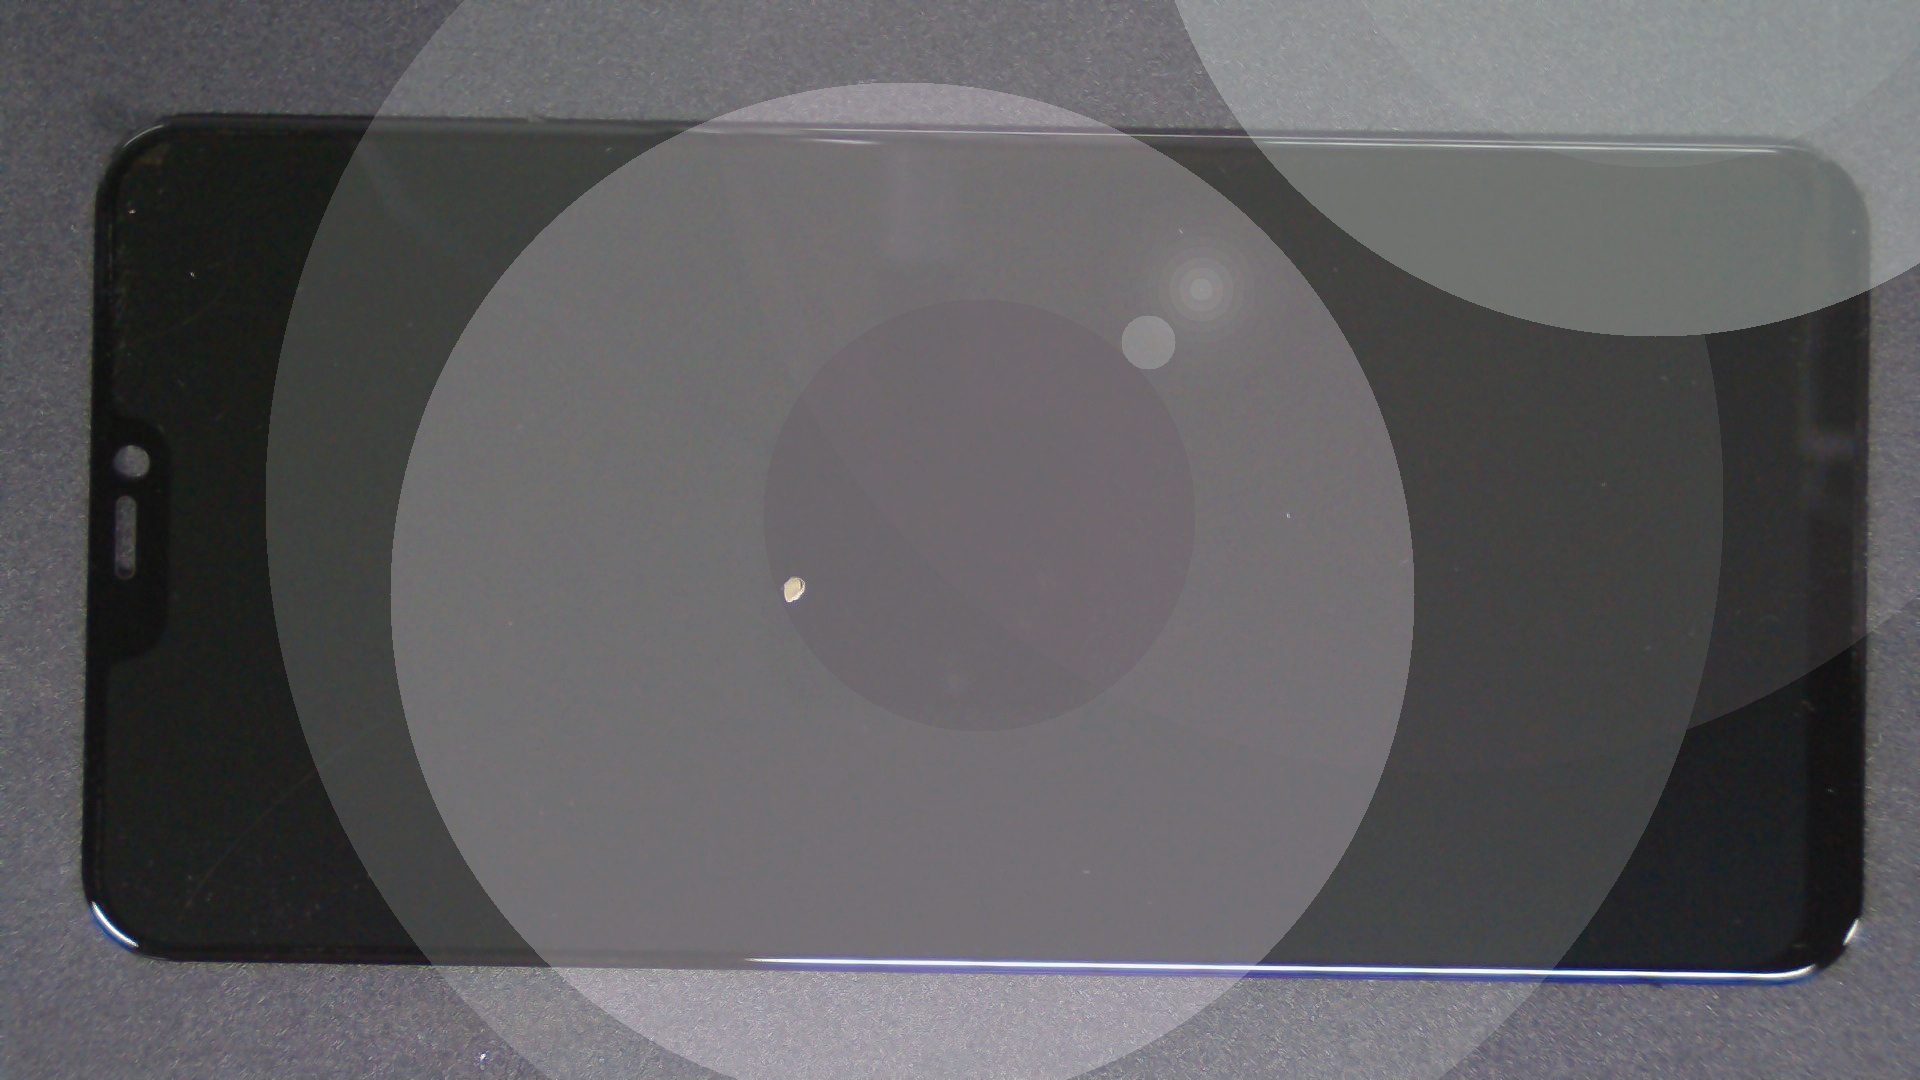oil: (397, 285, 1182, 865)
